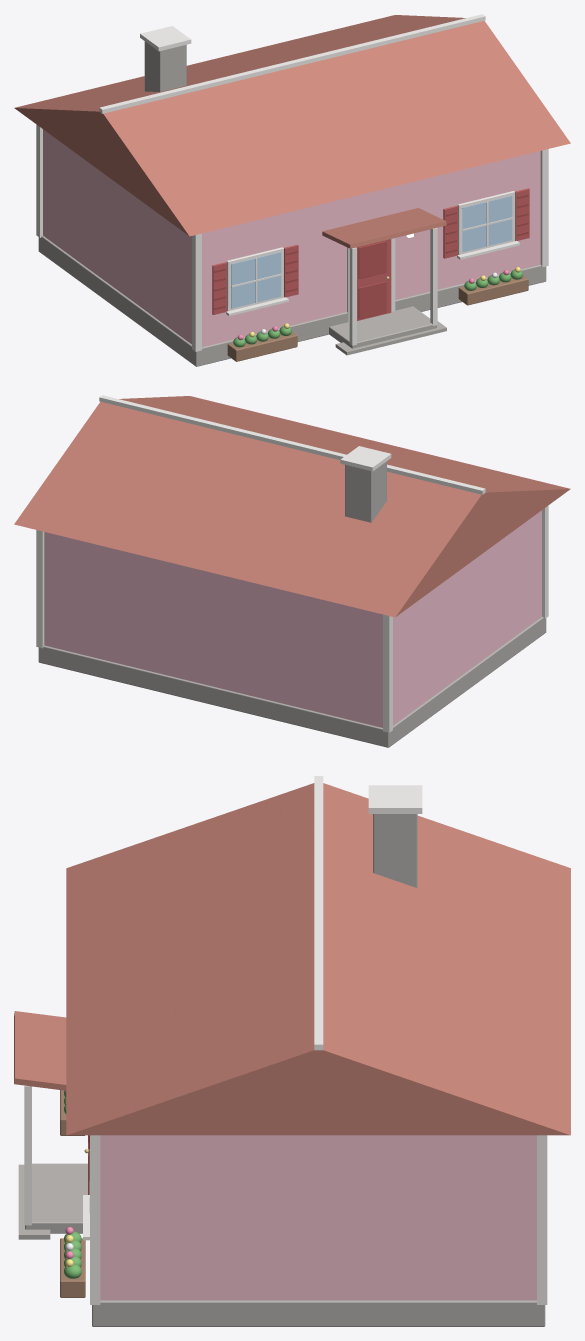
The model's file is casa_vecino.glb.
The picture shows the model from 3 angles, top to bottom: view 1: azimuth 30°, elevation 25°; view 2: azimuth 150°, elevation 25°; view 3: azimuth 270°, elevation 25°; orthographic projection. The views are drawn at different scales.
Parts seen in each view (by area): view 1: casa_vecino; view 2: casa_vecino; view 3: casa_vecino.
Part boxes in pixels (x1,y1,x2,y2): casa_vecino: [14, 14, 570, 366]; casa_vecino: [14, 395, 570, 747]; casa_vecino: [14, 776, 570, 1326].
Bounding box in the file's own units: 9.95 × 5.84 × 8.72.
